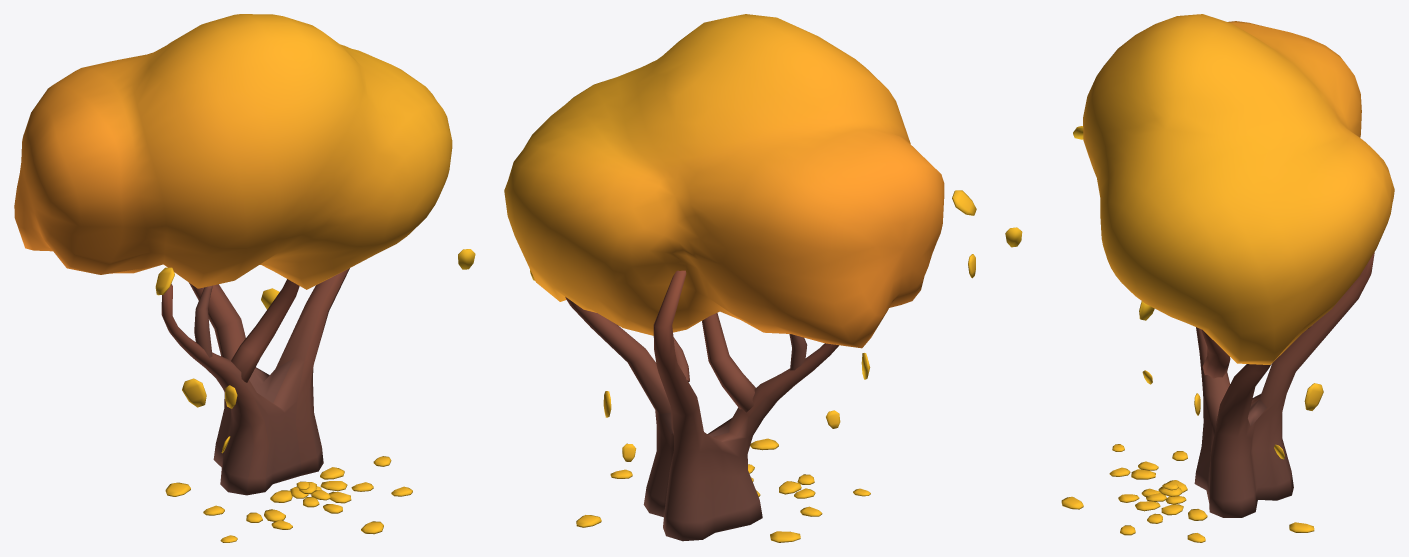
The model's file is Tree_Autumn_01.fbx.
The picture shows the model from 3 angles, left to right: view 1: azimuth 30°, elevation 25°; view 2: azimuth 150°, elevation 25°; view 3: azimuth 270°, elevation 25°; orthographic projection. The views are drawn at different scales.
Visible parts, largest first — view 1: Tree_Autumn_01; view 2: Tree_Autumn_01; view 3: Tree_Autumn_01.
Boxes of the visible parts, box(x1,y1,x2,y2) form: Tree_Autumn_01: box(14, 14, 475, 542); Tree_Autumn_01: box(504, 14, 976, 542); Tree_Autumn_01: box(1005, 14, 1394, 542).
Bounding box in the file's own units: 506 × 549 × 429.
